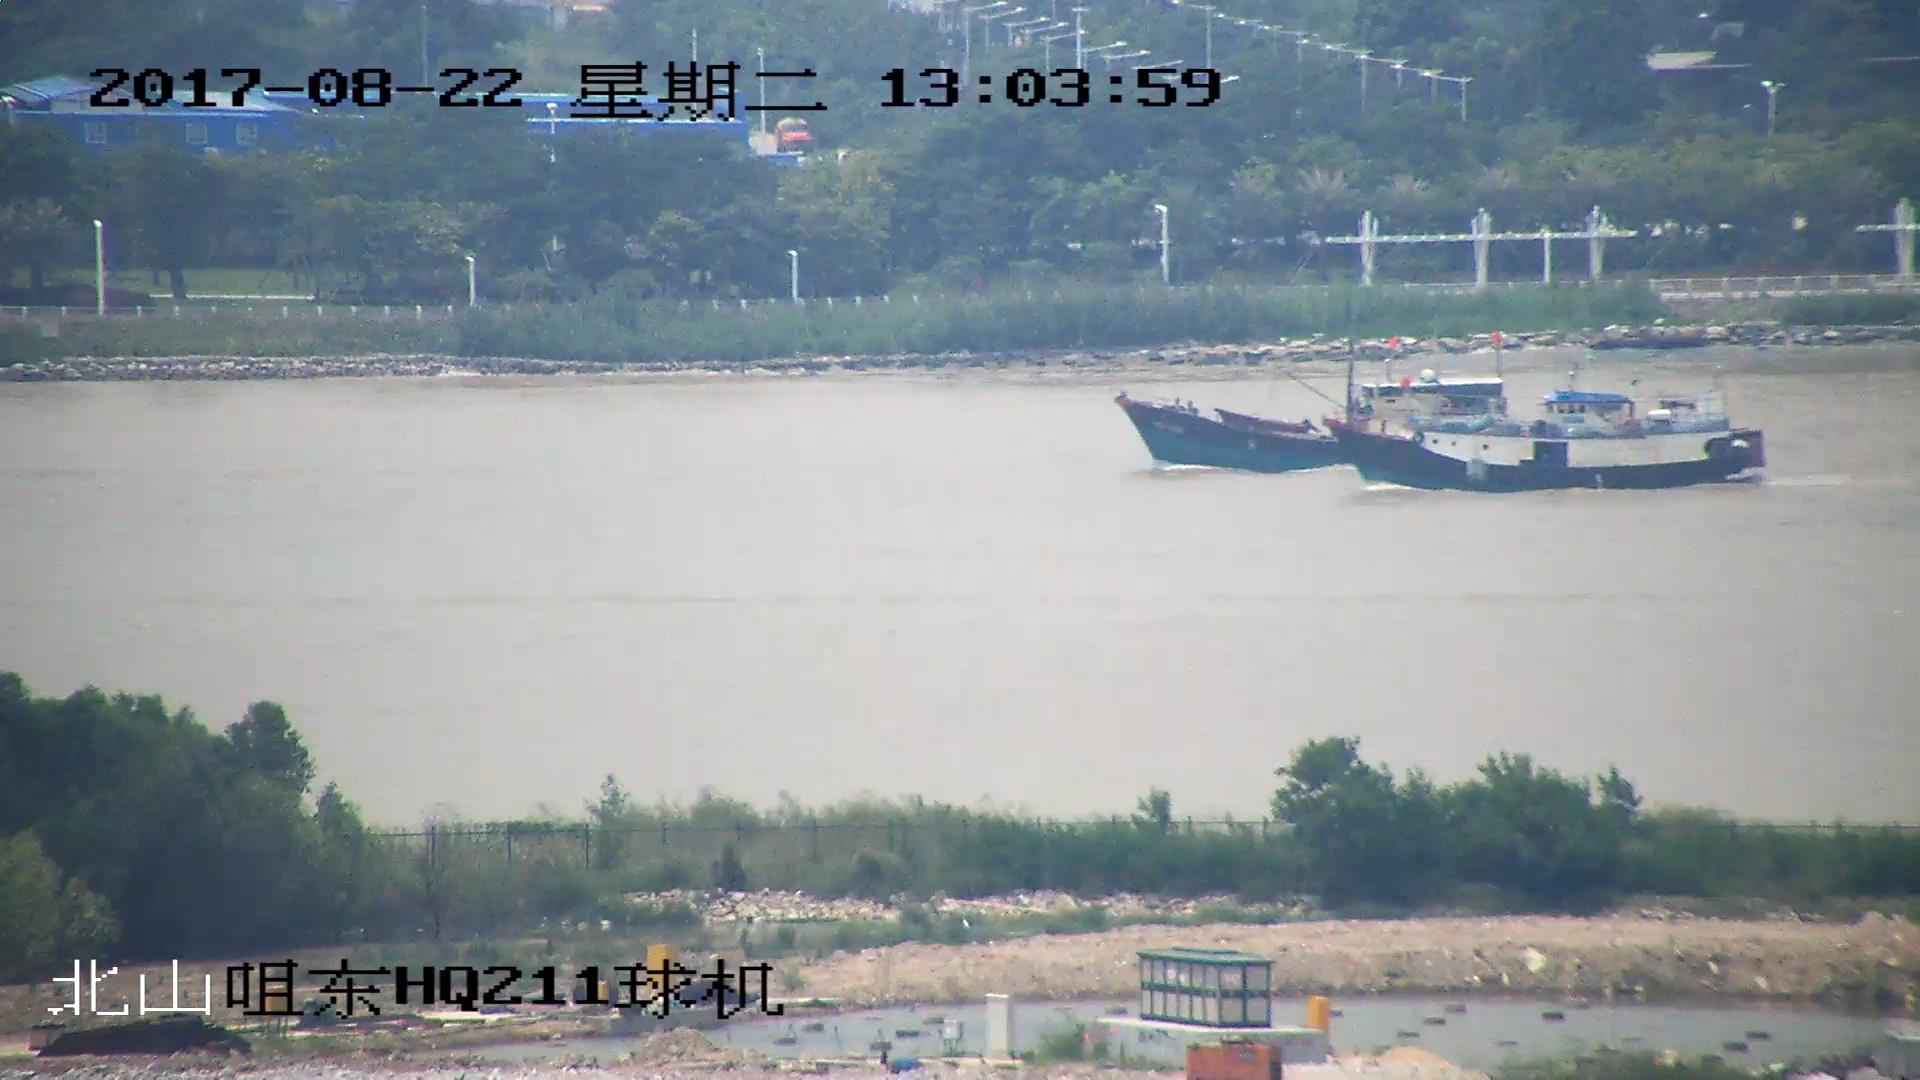fishing boat: (1327, 390, 1765, 495), (1118, 371, 1516, 474)
